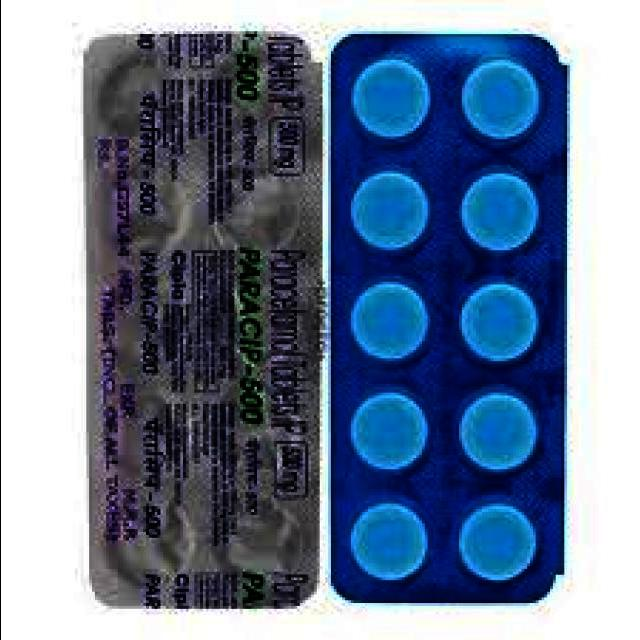authentic: (314, 12, 597, 619), (52, 14, 326, 624)
